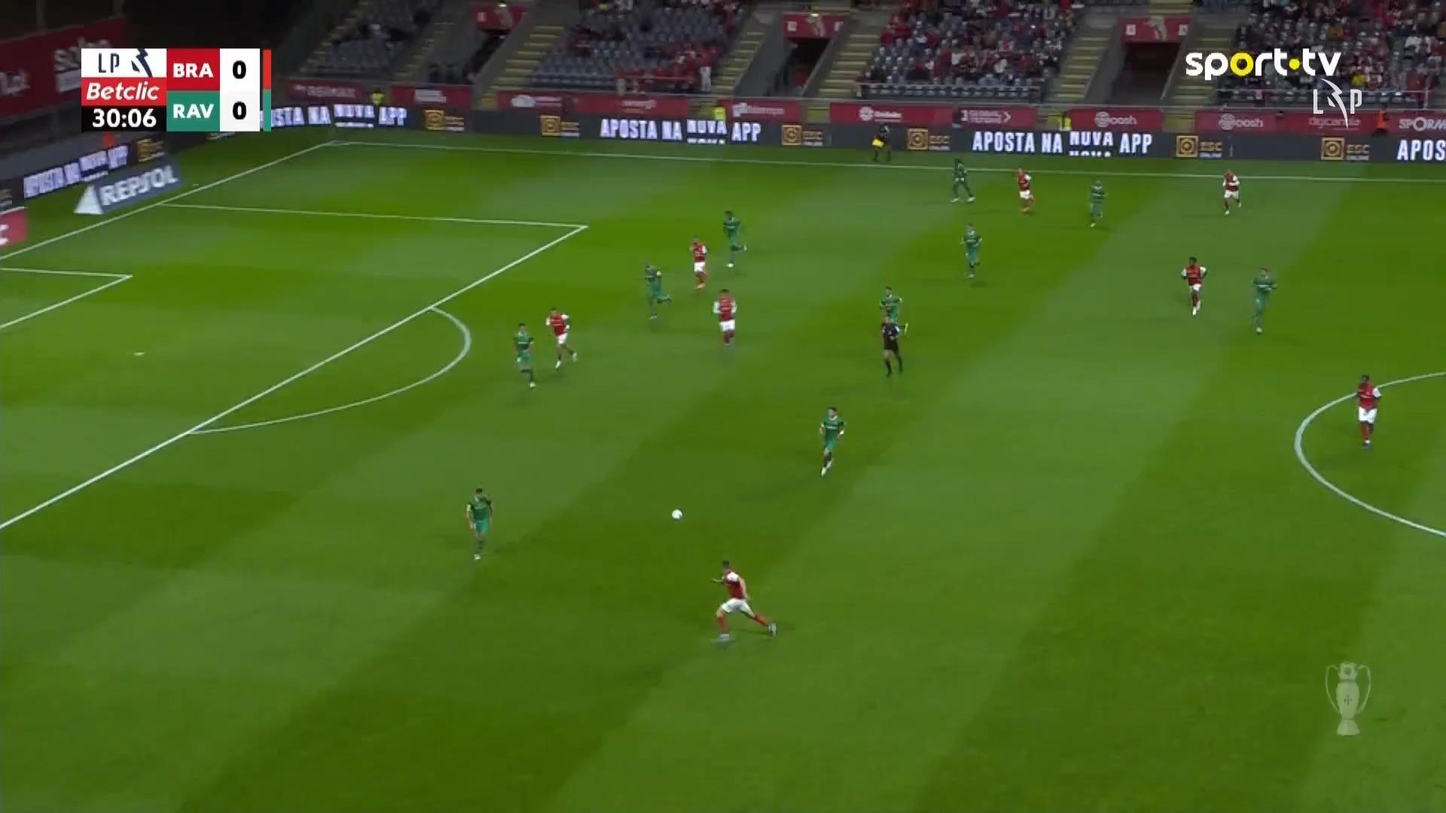ball: (670, 509, 682, 520)
player: (709, 559, 776, 641), (465, 487, 493, 560), (545, 306, 577, 369), (1354, 373, 1381, 447), (817, 406, 845, 477), (1250, 266, 1277, 333), (642, 260, 672, 320), (1179, 255, 1207, 316), (721, 209, 747, 268), (513, 322, 536, 388), (712, 288, 737, 347), (959, 222, 982, 278), (949, 157, 975, 203), (878, 285, 904, 330), (688, 235, 708, 289), (1015, 165, 1035, 212), (1087, 178, 1106, 227), (1221, 169, 1241, 215)
referee: (879, 314, 908, 376), (872, 121, 893, 162)
